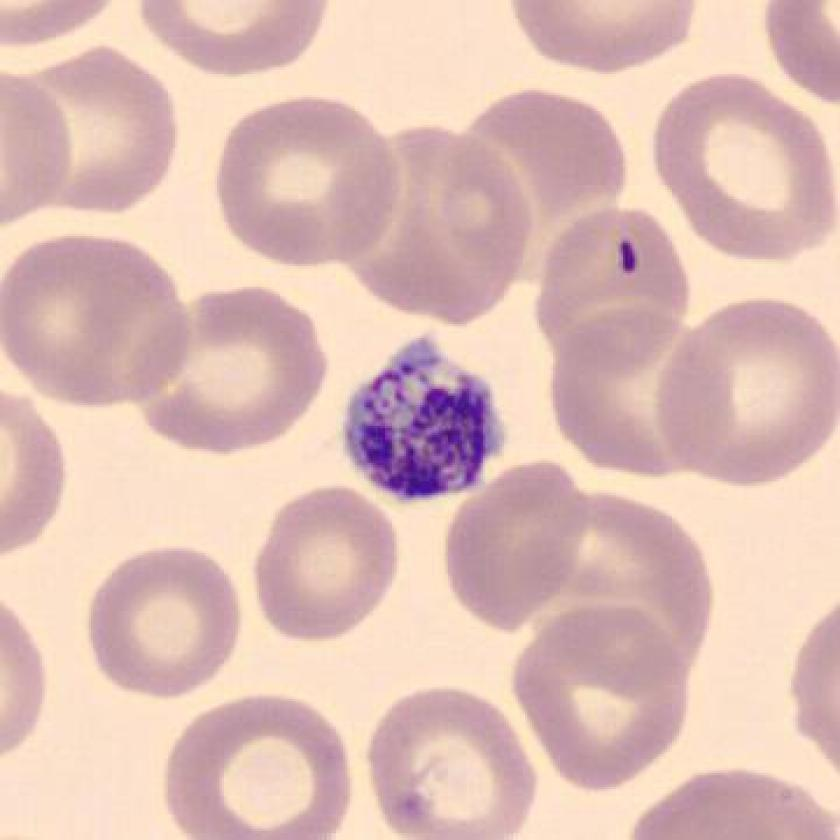platelets: (335, 318, 514, 515)
